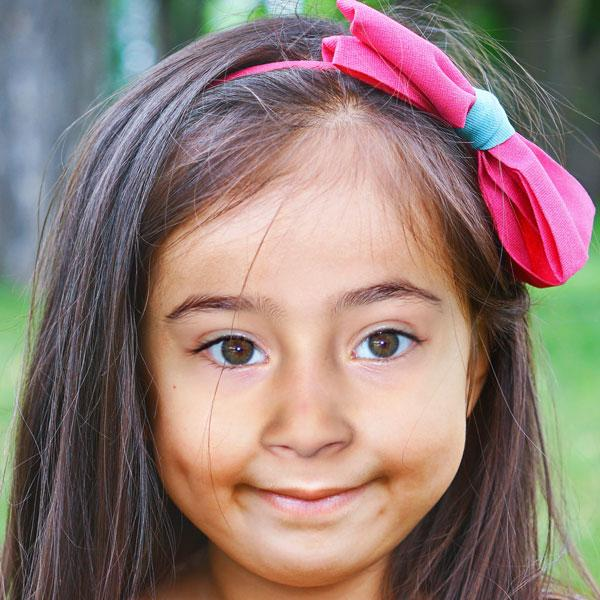Eyes: (179, 318, 280, 378), (341, 312, 429, 378)
